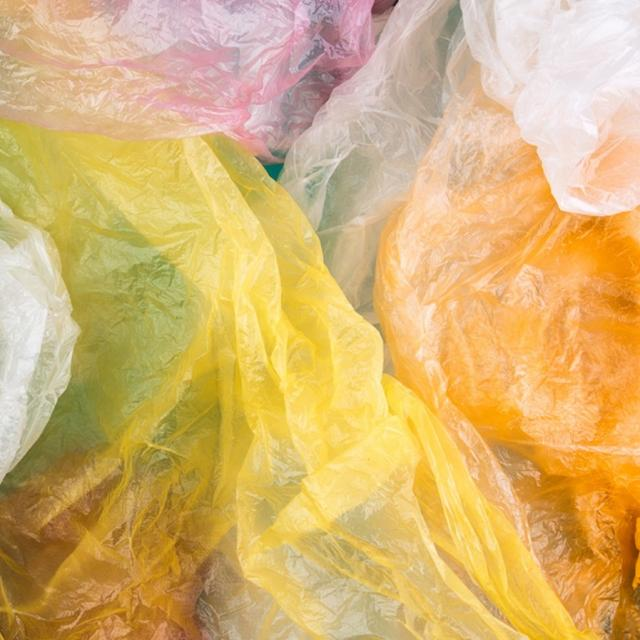Single-layer Plastic: (0, 121, 591, 640), (375, 69, 640, 640), (279, 0, 471, 322), (0, 0, 375, 162), (462, 0, 640, 215), (1, 200, 80, 482)
